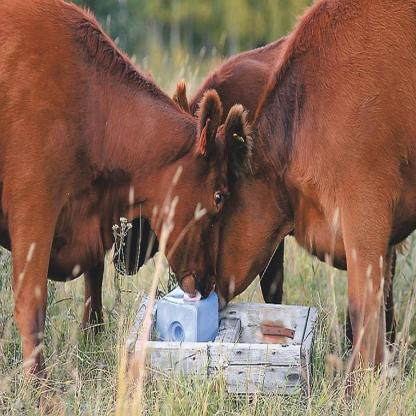cow: (0, 0, 229, 401), (213, 0, 416, 393), (114, 35, 296, 303)
